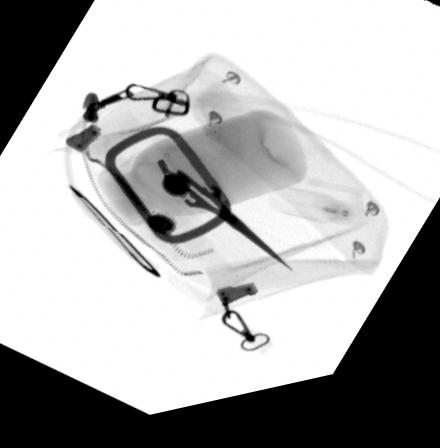Scissors: (131, 155, 293, 285)
